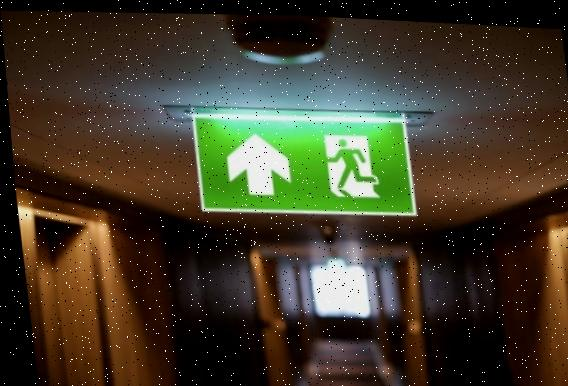emergency_exit: (191, 110, 418, 217)
